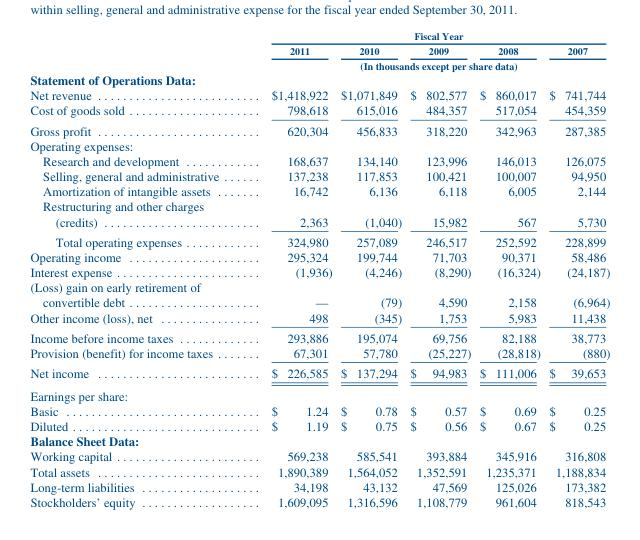table: (29, 29, 609, 508)
table column: (29, 29, 244, 508), (244, 29, 335, 508), (335, 29, 405, 508), (474, 29, 544, 508), (405, 29, 474, 508), (544, 29, 609, 508)
table column header: (29, 29, 609, 57)
table projected row header: (29, 384, 609, 403), (29, 71, 609, 87), (29, 137, 609, 153), (29, 433, 609, 448), (29, 57, 609, 71)
table row: (29, 198, 609, 231), (29, 279, 609, 309), (29, 362, 609, 384), (29, 384, 609, 403), (29, 102, 609, 120), (29, 231, 609, 249), (29, 309, 609, 327), (29, 327, 609, 345), (29, 120, 609, 137), (29, 345, 609, 362), (29, 71, 609, 87), (29, 137, 609, 153), (29, 478, 609, 494), (29, 42, 609, 57), (29, 87, 609, 102), (29, 153, 609, 168), (29, 168, 609, 183), (29, 183, 609, 198), (29, 249, 609, 264), (29, 264, 609, 279), (29, 403, 609, 418), (29, 418, 609, 433), (29, 433, 609, 448), (29, 448, 609, 463), (29, 463, 609, 478), (29, 57, 609, 71), (29, 494, 609, 508), (29, 29, 609, 42)
table spanning cell: (244, 29, 609, 42)
